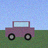vehicle: (5, 21, 34, 40)
